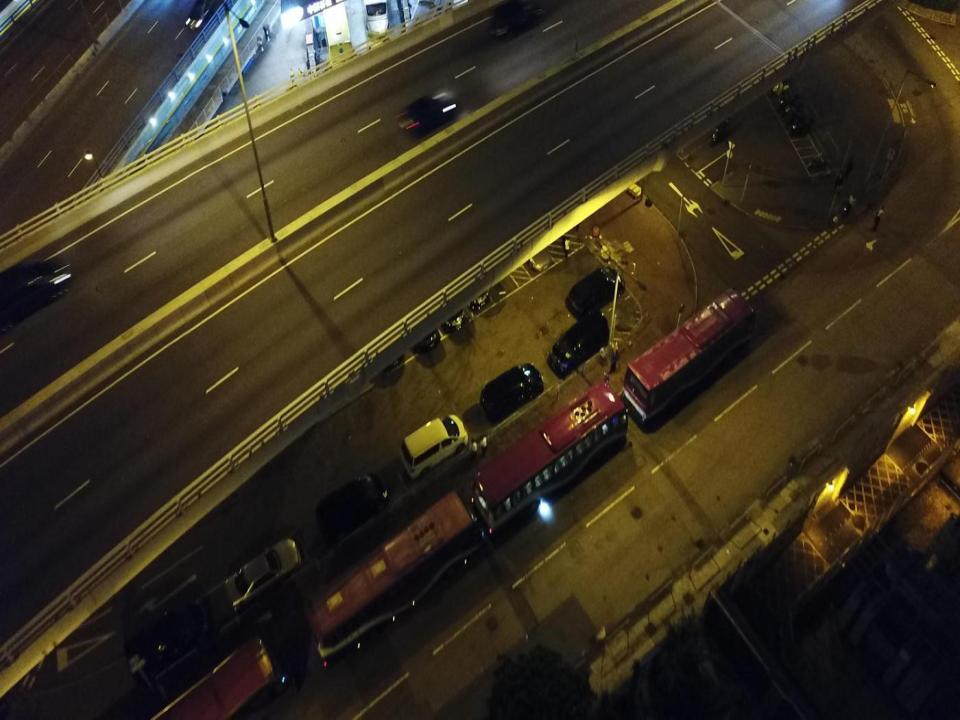bus: (304, 489, 482, 668), (472, 380, 627, 537), (621, 287, 754, 427), (138, 636, 286, 719), (319, 0, 355, 79)
car: (225, 537, 302, 610), (401, 270, 441, 356), (366, 300, 405, 376), (398, 90, 457, 134), (429, 268, 467, 332), (492, 0, 548, 39), (456, 250, 490, 310), (516, 217, 552, 272), (184, 0, 218, 29)
van: (124, 603, 208, 676), (315, 472, 388, 544), (0, 260, 69, 333), (401, 413, 468, 482), (546, 308, 609, 374), (480, 363, 543, 425), (568, 266, 624, 316)
